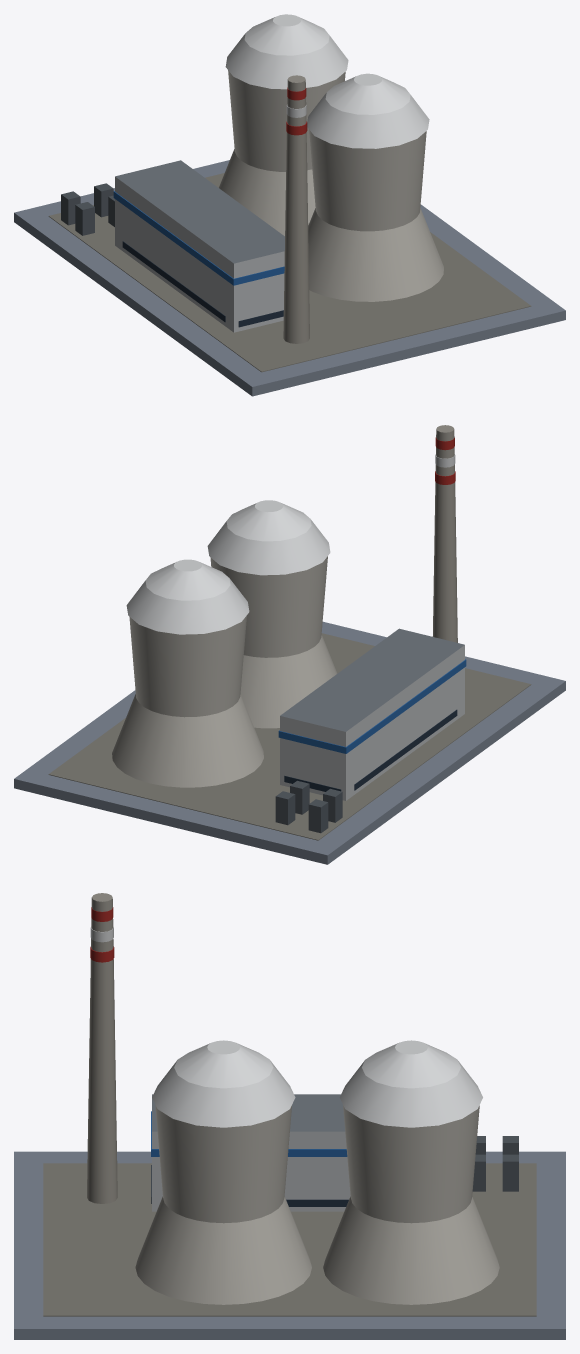
The model's file is power_plant.glb.
The picture shows the model from 3 angles, top to bottom: view 1: azimuth 30°, elevation 25°; view 2: azimuth 150°, elevation 25°; view 3: azimuth 270°, elevation 25°; orthographic projection. The views are drawn at different scales.
Parts seen in each view (by area): view 1: power_plant; view 2: power_plant; view 3: power_plant.
Boxes of the visible parts, <box> form: power_plant: <box>14,14,565,396</box>; power_plant: <box>14,425,565,864</box>; power_plant: <box>14,893,565,1339</box>.
Size of the model in its own units: 76 by 62.35 by 100.
